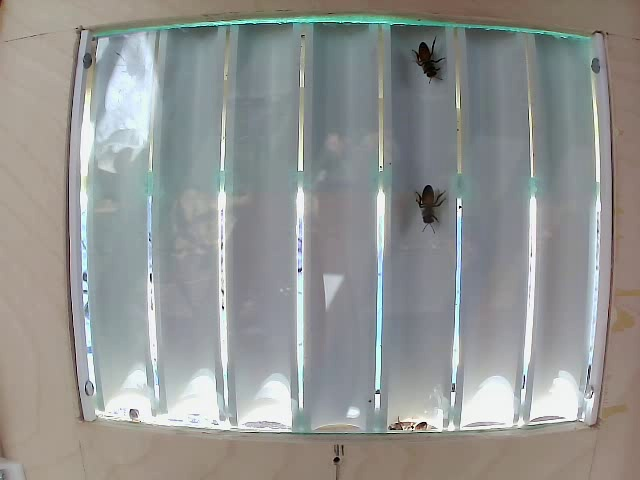bee: (402, 180, 441, 230), (398, 38, 439, 83)
